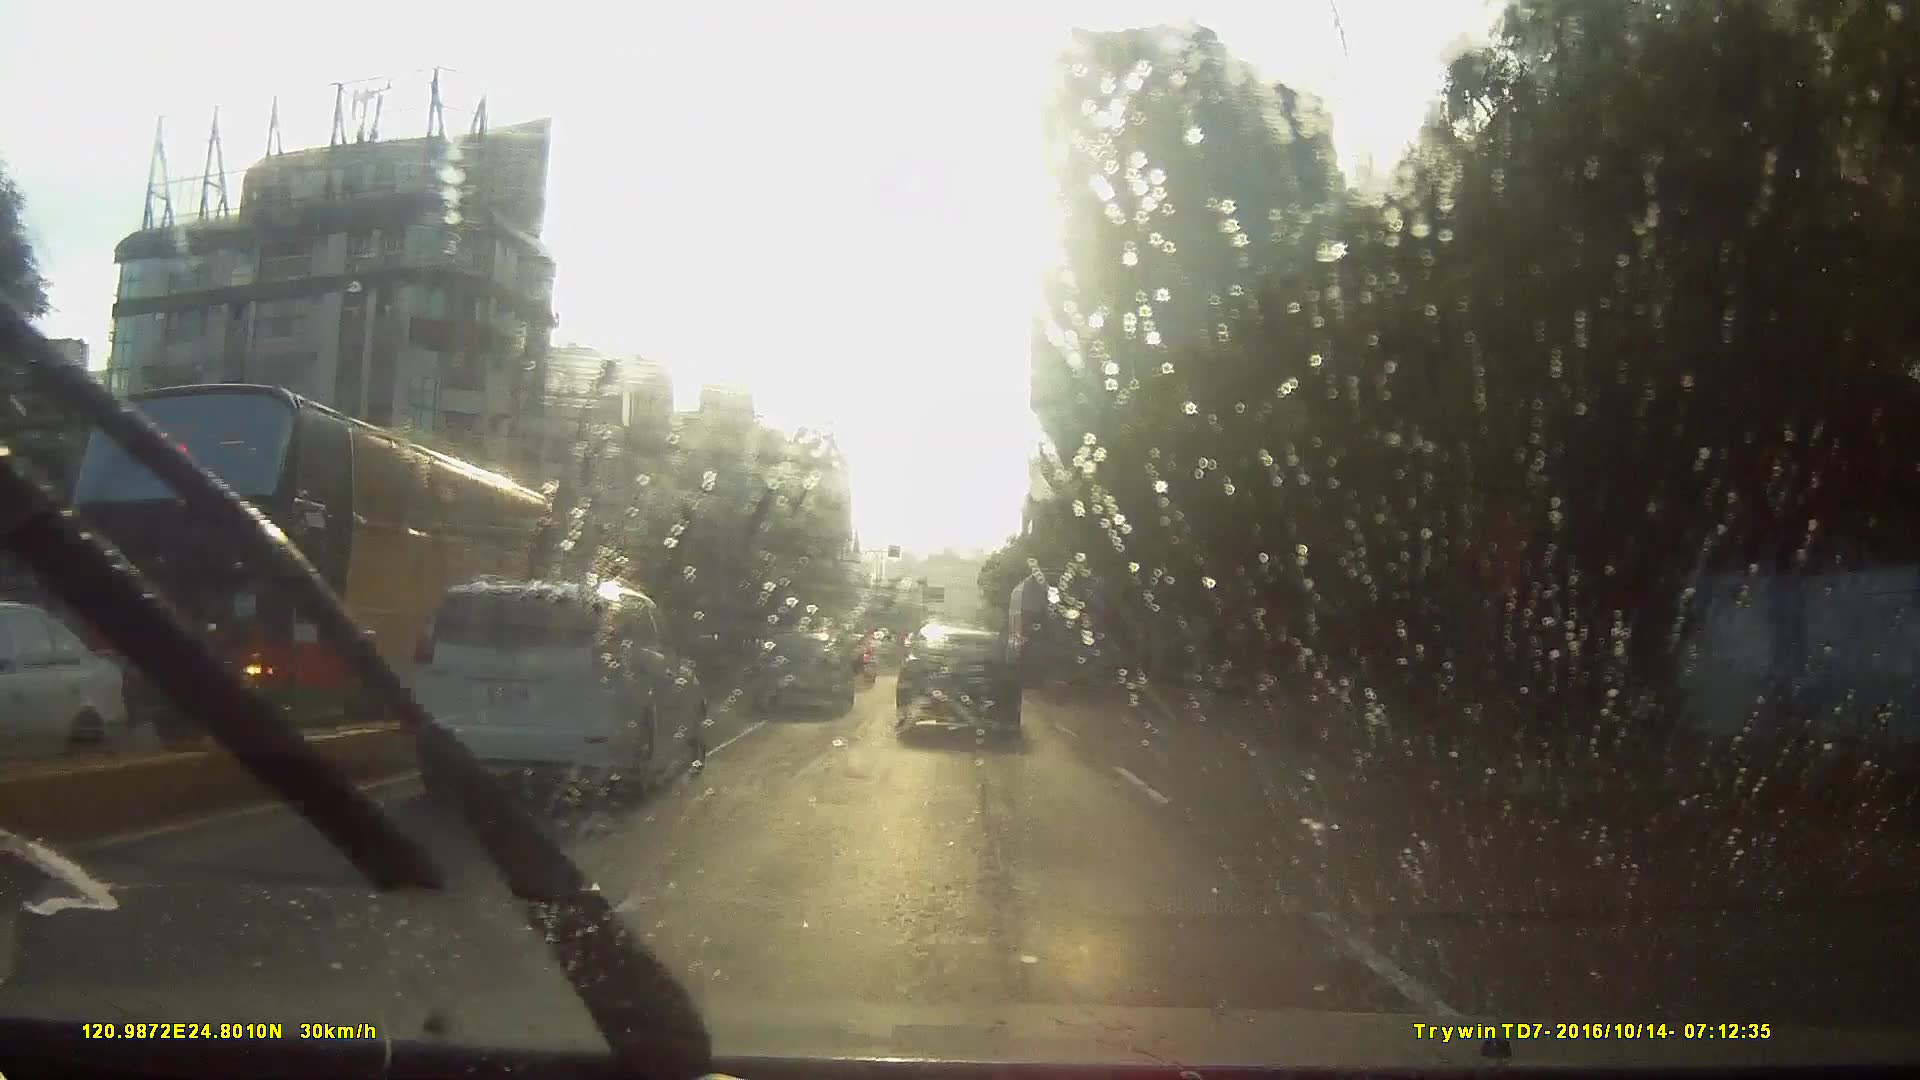vehicle: (40, 372, 582, 764), (251, 556, 684, 868), (409, 574, 708, 802), (894, 621, 1022, 736), (1007, 567, 1112, 694), (0, 622, 73, 777), (748, 630, 855, 717), (866, 638, 915, 687)
